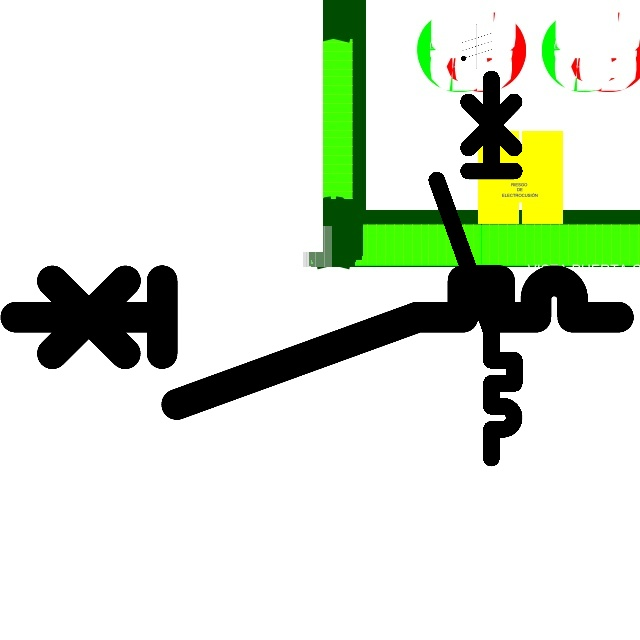interruptor_termomagnetico: (0, 265, 634, 420), (427, 69, 524, 467)
